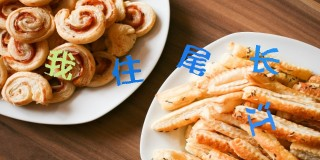住: (112, 53, 144, 86)
尾: (176, 42, 210, 76)
我: (43, 48, 76, 80)
江: (244, 101, 276, 136)
长: (249, 44, 281, 76)
